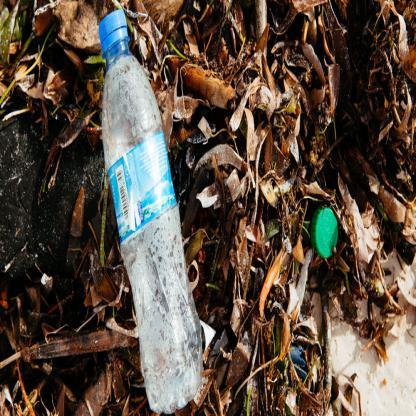bottle: (94, 7, 212, 414)
